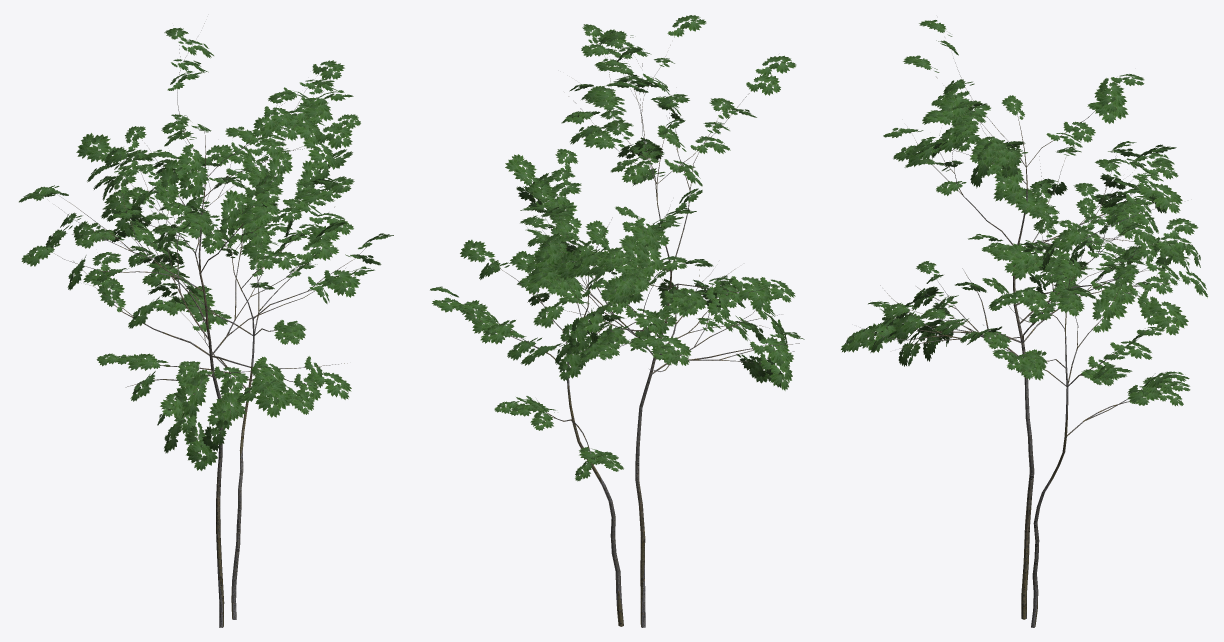
File: hauchiwakaede_nocolor.fbx
The picture shows the model from 3 angles, left to right: view 1: azimuth 30°, elevation 25°; view 2: azimuth 150°, elevation 25°; view 3: azimuth 270°, elevation 25°; orthographic projection.
Parts seen in each view (by area): view 1: Tree.001, Tree.002, 908.092, 908.119, 908.070, 908.132, 908.125, 908.146, 908.217, 908.122, 908.111, 908.062 (+5 smaller); view 2: Tree.001, Tree.002, 908.093, 908.042, 908.039, 908.173, 908.069, 908.098, 908.012; view 3: Tree.001, Tree.002, 908.025, 908.143, 908.175, 908.156, 908.023, 908.003, 908.103, 908.084, 908.105.
Part boxes in pixels (<box>): Tree.001: <box>44,23,347,627</box>; Tree.002: <box>137,150,367,619</box>; 908.092: <box>172,373,206,417</box>; 908.119: <box>186,425,217,470</box>; 908.070: <box>76,133,122,162</box>; 908.132: <box>207,392,239,430</box>; 908.125: <box>178,159,209,199</box>; 908.146: <box>251,372,289,417</box>; 908.217: <box>220,189,246,229</box>; 908.122: <box>323,270,360,297</box>; 908.111: <box>160,159,188,197</box>; 908.062: <box>311,371,351,399</box>; Tree.001: <box>545,37,799,627</box>; Tree.002: <box>450,176,675,626</box>; 908.093: <box>736,283,772,312</box>; 908.042: <box>750,337,789,362</box>; 908.039: <box>600,273,635,304</box>; 908.173: <box>505,154,539,188</box>; 908.069: <box>534,236,562,269</box>; 908.098: <box>760,354,792,390</box>; 908.012: <box>558,345,582,380</box>; Tree.001: <box>860,42,1182,619</box>; Tree.002: <box>948,156,1184,627</box>; 908.025: <box>1148,297,1188,335</box>; 908.143: <box>1138,182,1182,213</box>; 908.175: <box>1092,290,1127,332</box>; 908.156: <box>1002,243,1043,271</box>; 908.023: <box>1096,78,1126,112</box>; 908.003: <box>860,318,899,352</box>; 908.103: <box>1051,226,1092,253</box>; 908.084: <box>893,311,931,340</box>; 908.105: <box>939,89,966,118</box>.
Bounding box in the file's own units: 259 × 398 × 238.
Materials: 2 (2 with a texture image).
